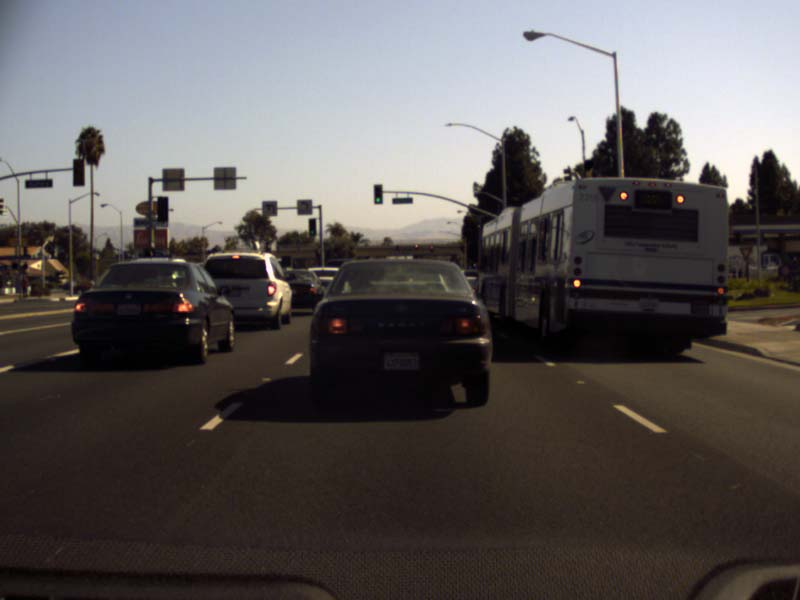Green: (373, 184, 382, 204), (309, 218, 315, 235), (395, 245, 398, 253)
Red: (414, 243, 418, 251), (429, 245, 433, 252)
